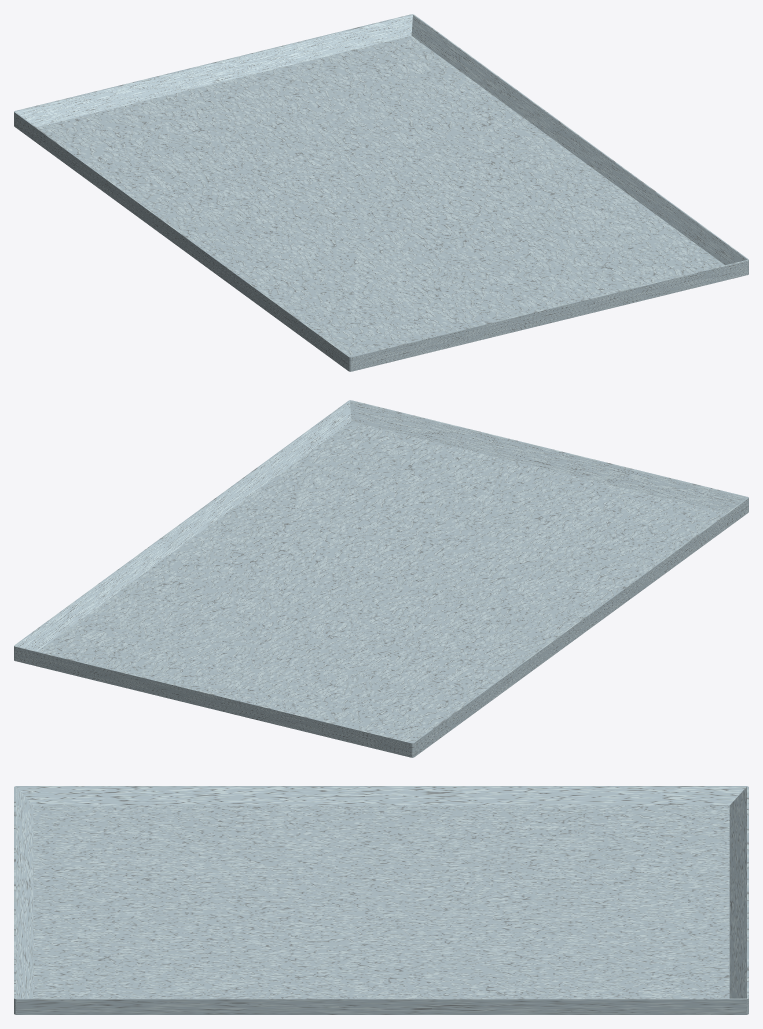
Rendered from dining_tray.fbx.
3 views of the same model, one above another, from view 1: azimuth 30°, elevation 25°; view 2: azimuth 150°, elevation 25°; view 3: azimuth 270°, elevation 25° (orthographic). The views are drawn at different scales.
Visible parts, largest first — view 1: lunchtray:pCube1; view 2: lunchtray:pCube1; view 3: lunchtray:pCube1.
Part boxes in pixels (x1,y1,x2,y2): lunchtray:pCube1: [14, 14, 748, 371]; lunchtray:pCube1: [14, 400, 748, 757]; lunchtray:pCube1: [14, 786, 748, 1014].
Bounding box in the file's own units: 0.886 × 0.0305 × 1.29.
1 material, 1 textured.
